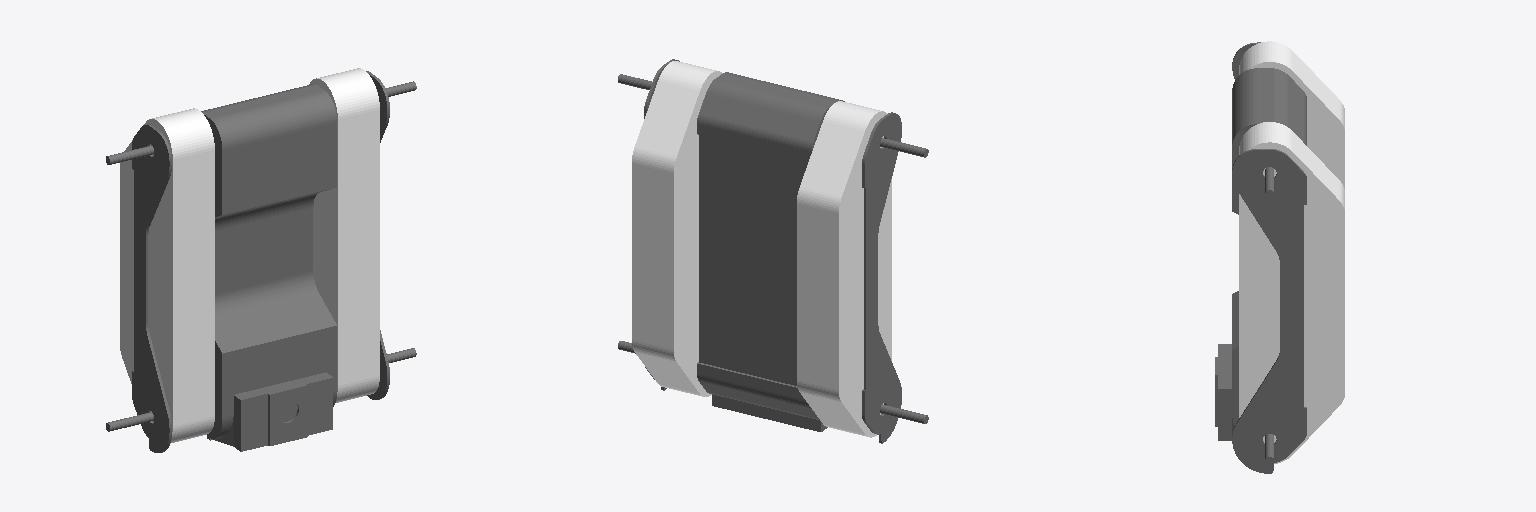
File: chasis.obj
The picture shows the model from 3 angles: view 1: azimuth 30°, elevation 25°; view 2: azimuth 150°, elevation 25°; view 3: azimuth 270°, elevation 25°; orthographic projection.
Parts seen in each view (by area): view 1: Object.6, Object.2, Object.7, Object.5, Object.1, Object.8, Object.4; view 2: Object.6, Object.2, Object.7, Object.5, Object.1; view 3: Object.7, Object.4, Object.6, Object.2, Object.1.
Part boxes in pixels (left/top/right/bottom): Object.6: left=201, top=84, right=336, bottom=439; Object.2: left=120, top=108, right=214, bottom=443; Object.7: left=309, top=68, right=379, bottom=402; Object.5: left=132, top=124, right=171, bottom=452; Object.1: left=207, top=372, right=332, bottom=451; Object.8: left=268, top=384, right=307, bottom=445; Object.4: left=366, top=71, right=389, bottom=399; Object.6: left=697, top=72, right=844, bottom=419; Object.2: left=797, top=101, right=891, bottom=437; Object.7: left=632, top=61, right=722, bottom=396; Object.5: left=862, top=112, right=901, bottom=443; Object.1: left=712, top=394, right=827, bottom=431; Object.7: left=1239, top=122, right=1344, bottom=463; Object.4: left=1232, top=149, right=1306, bottom=473; Object.6: left=1232, top=68, right=1306, bottom=425; Object.2: left=1239, top=41, right=1344, bottom=188; Object.1: left=1218, top=344, right=1234, bottom=440.
Size of the model in its own units: 728 by 745 by 269.